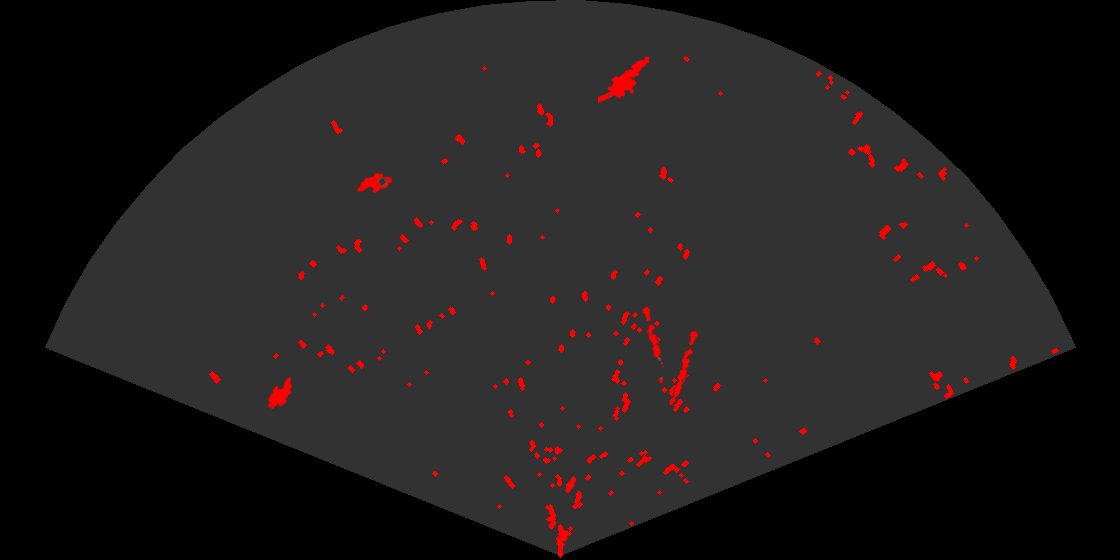AUV: (266, 375, 294, 411), (355, 171, 394, 195)
chain: (668, 327, 700, 408), (640, 302, 666, 386)
frogman: (598, 55, 652, 105)
